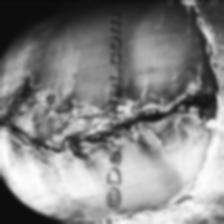Toxin: (0, 0, 207, 219)
